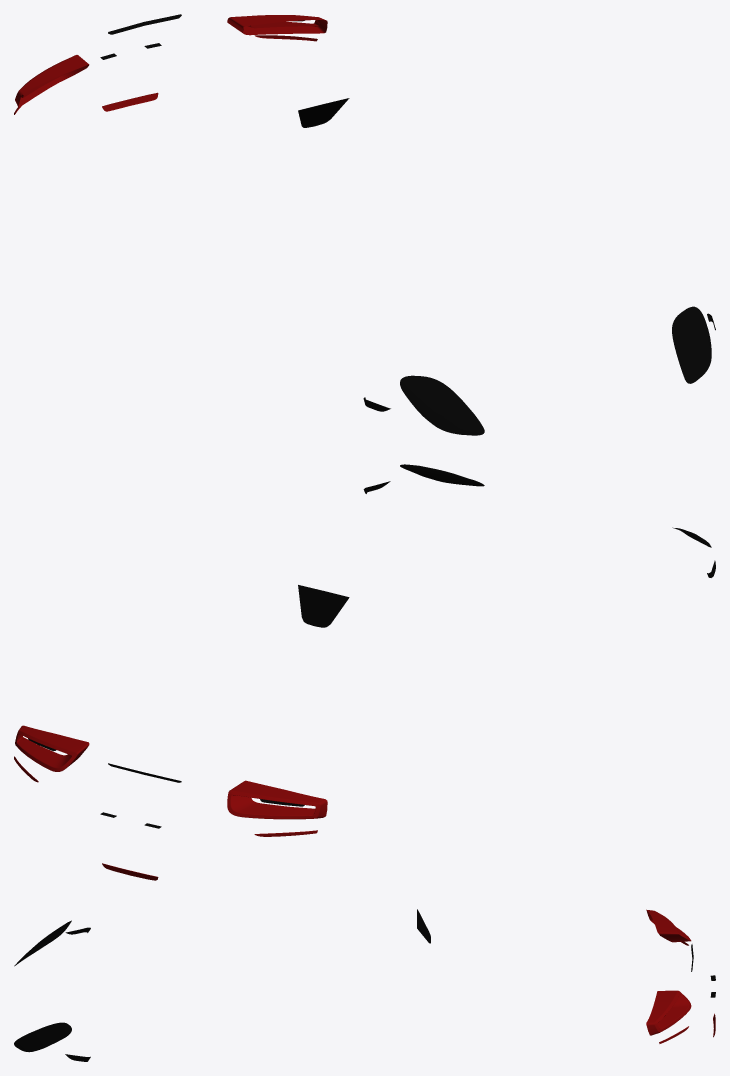
The model's file is Cristal.obj.
The picture shows the model from 3 angles, top to bottom: view 1: azimuth 30°, elevation 25°; view 2: azimuth 150°, elevation 25°; view 3: azimuth 270°, elevation 25°; orthographic projection. The views are drawn at different scales.
Visible parts, largest first — view 1: p:Kit1_Window_Geo_lodA_Kit1_Window_Geo_lodA_Porsche_918SpyderRew; view 2: p:Kit1_Window_Geo_lodA_Kit1_Window_Geo_lodA_Porsche_918SpyderRew; view 3: p:Kit1_Window_Geo_lodA_Kit1_Window_Geo_lodA_Porsche_918SpyderRew.
Boxes of the visible parts, box(x1,y1,x2,y2) form: p:Kit1_Window_Geo_lodA_Kit1_Window_Geo_lodA_Porsche_918SpyderRew: box(14, 14, 715, 435); p:Kit1_Window_Geo_lodA_Kit1_Window_Geo_lodA_Porsche_918SpyderRew: box(14, 464, 715, 880); p:Kit1_Window_Geo_lodA_Kit1_Window_Geo_lodA_Porsche_918SpyderRew: box(14, 909, 715, 1061).
Bounding box in the file's own units: 0.0191 × 0.00755 × 0.0437.
